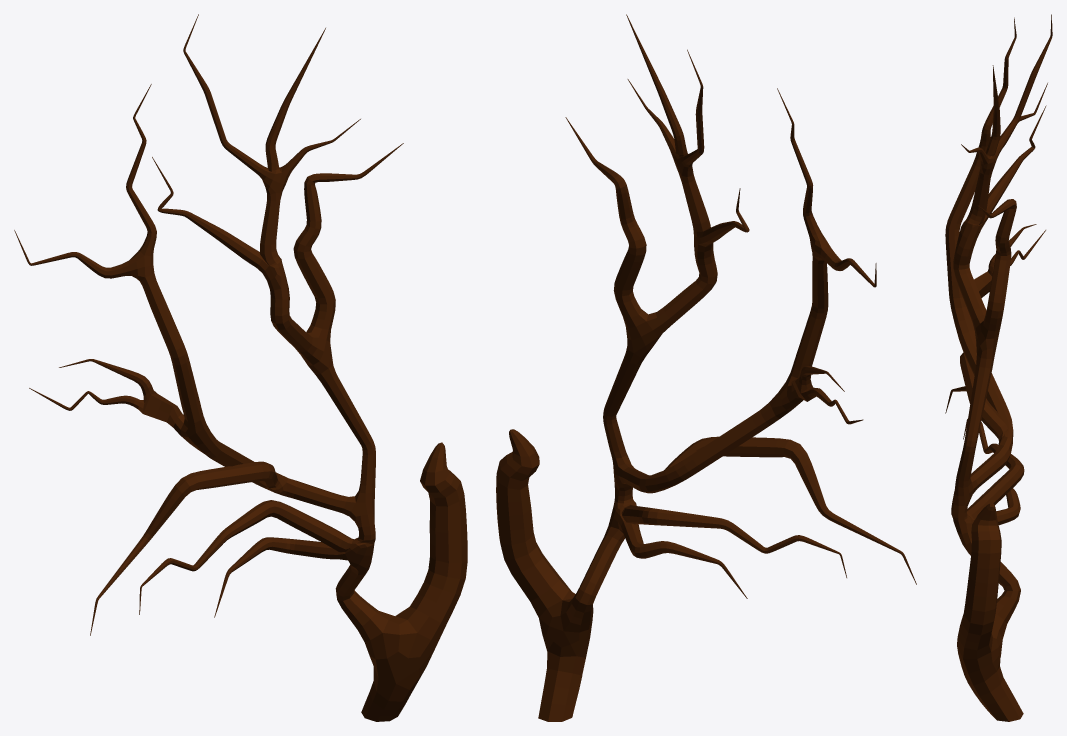
Rendered from Tree1.fbx.
3 views of the same model, side by side, from view 1: azimuth 30°, elevation 25°; view 2: azimuth 150°, elevation 25°; view 3: azimuth 270°, elevation 25° (orthographic). The views are drawn at different scales.
Visible parts, largest first — view 1: Vert.004; view 2: Vert.004; view 3: Vert.004.
Boxes of the visible parts, <box> form: Vert.004: <box>14,14,467,721</box>; Vert.004: <box>496,14,916,721</box>; Vert.004: <box>945,14,1052,721</box>.
Size of the model in its own units: 1724 by 2877 by 440.
